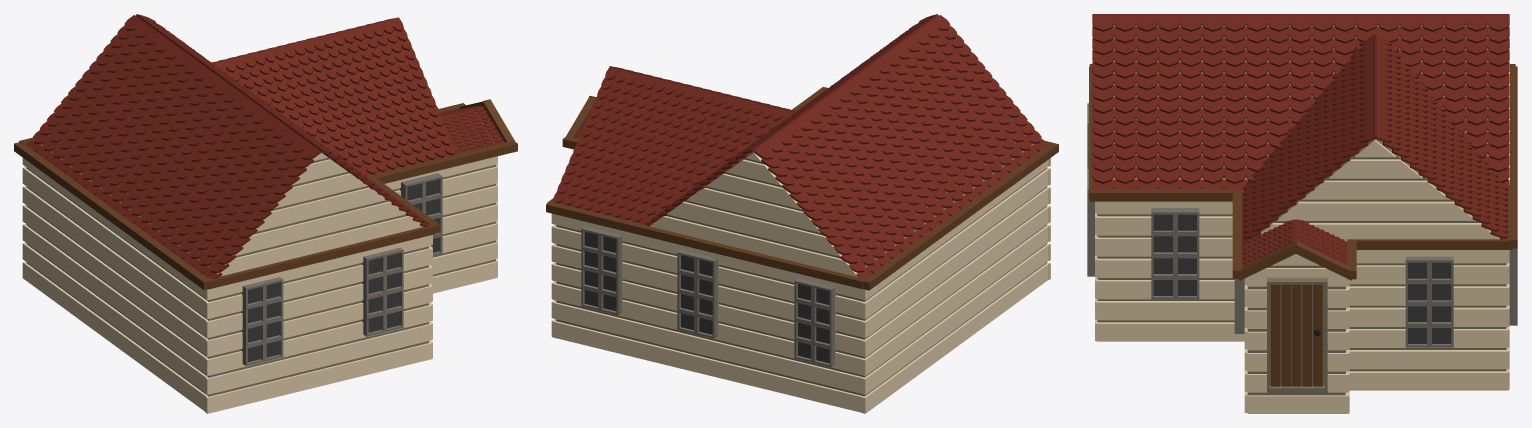
The model's file is house_mid.fbx.
The picture shows the model from 3 angles, left to right: view 1: azimuth 30°, elevation 25°; view 2: azimuth 150°, elevation 25°; view 3: azimuth 270°, elevation 25°; orthographic projection. The views are drawn at different scales.
Parts seen in each view (by area): view 1: Cube.099, Cube.082, Cube.103, Cube.077, Cube.087, Cube.080, Cube.075, Cube.092, Cube.091, Cube.111, Cube.100, Cube.105 (+5 smaller); view 2: Cube.099, Cube.076, Cube.082, Cube.101, Cube.086, Cube.075, Cube.106, Cube.093, Cube.094, Cube.095, Cube.111, Cube.100; view 3: Cube.100, Cube.083, Cube.081, Cube.103, Cube.101, Cube.085, Cube.078, Cube.075, Cube.089, Cube.097, Cube.096, Cube.088 (+14 smaller).
Part boxes in pixels (x1=…): Cube.099: x1=26, y1=15, x2=321, y2=278; Cube.082: x1=22, y1=158, x2=208, y2=411; Cube.103: x1=212, y1=17, x2=456, y2=175; Cube.077: x1=205, y1=235, x2=432, y2=413; Cube.087: x1=216, y1=153, x2=422, y2=276; Cube.080: x1=385, y1=156, x2=497, y2=293; Cube.075: x1=26, y1=64, x2=495, y2=396; Cube.092: x1=241, y1=277, x2=283, y2=366; Cube.091: x1=362, y1=247, x2=403, y2=336; Cube.111: x1=14, y1=142, x2=210, y2=289; Cube.100: x1=136, y1=14, x2=429, y2=227; Cube.105: x1=208, y1=224, x2=434, y2=289; Cube.099: x1=754, y1=15, x2=1046, y2=278; Cube.076: x1=552, y1=213, x2=865, y2=412; Cube.082: x1=862, y1=159, x2=1048, y2=413; Cube.101: x1=553, y1=66, x2=796, y2=224; Cube.086: x1=649, y1=152, x2=857, y2=276; Cube.075: x1=556, y1=110, x2=1046, y2=396; Cube.106: x1=546, y1=201, x2=866, y2=289; Cube.093: x1=794, y1=278, x2=836, y2=367; Cube.094: x1=677, y1=249, x2=719, y2=338; Cube.095: x1=581, y1=226, x2=623, y2=315; Cube.111: x1=863, y1=142, x2=1058, y2=290; Cube.100: x1=646, y1=14, x2=938, y2=225; Cube.100: x1=1092, y1=15, x2=1509, y2=191; Cube.083: x1=1349, y1=250, x2=1508, y2=390; Cube.081: x1=1096, y1=201, x2=1244, y2=341; Cube.103: x1=1242, y1=34, x2=1376, y2=243; Cube.101: x1=1374, y1=34, x2=1508, y2=240; Cube.085: x1=1261, y1=139, x2=1499, y2=241; Cube.078: x1=1247, y1=268, x2=1348, y2=413; Cube.075: x1=1097, y1=24, x2=1506, y2=395; Cube.089: x1=1270, y1=284, x2=1322, y2=386; Cube.097: x1=1151, y1=208, x2=1199, y2=299; Cube.096: x1=1405, y1=256, x2=1453, y2=347; Cube.088: x1=1267, y1=277, x2=1327, y2=394.
Size of the model in its own units: 1924 by 1149 by 1690.
